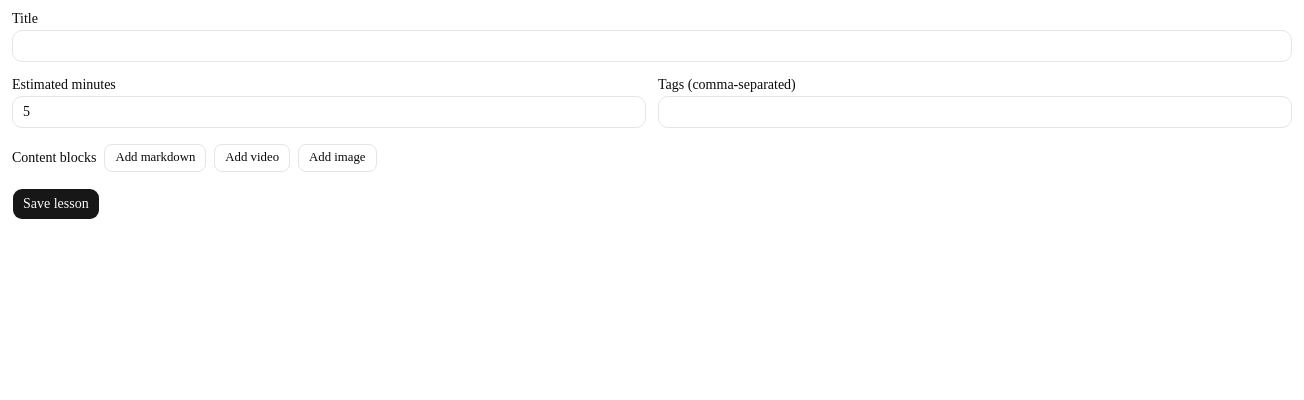
Test: LessonForm › blocks an invalid video URL and renders the issue
Step 1. Type "Broken" into the field labelled "Title" → (652, 46), box [12, 30, 1292, 62]
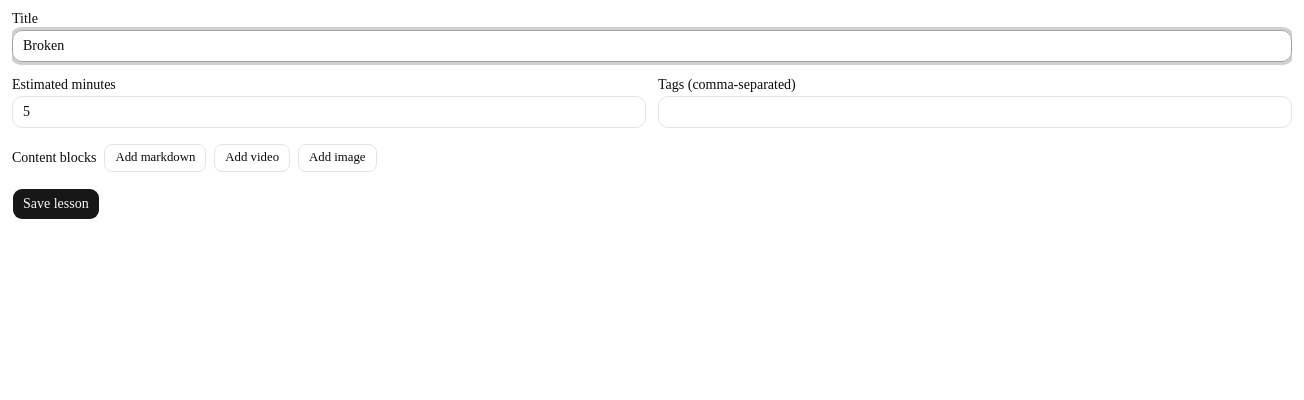
Step 2. Click the button "Add video" → (252, 158), box [214, 144, 290, 172]
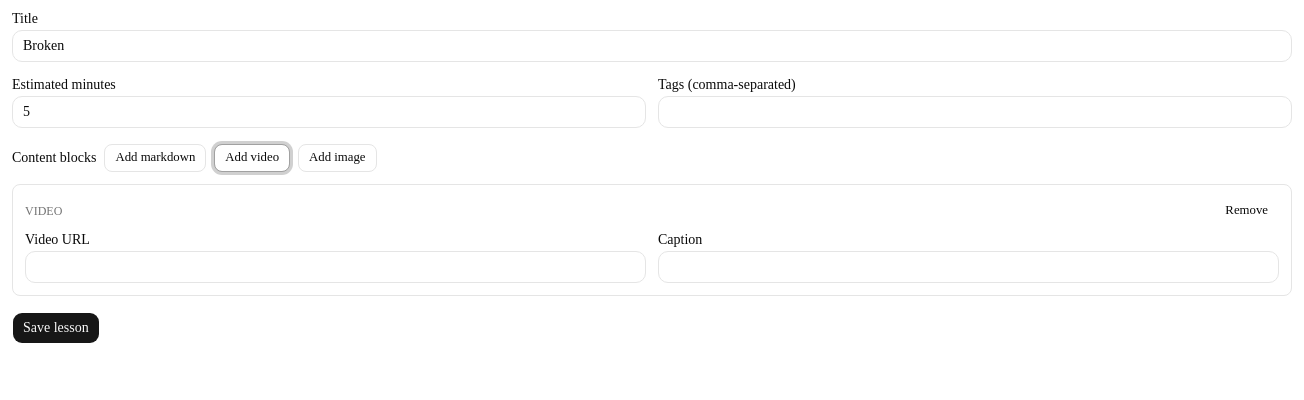
Step 3. Type "not-a-url" into the field labelled "Video URL" → (336, 267), box [25, 251, 646, 283]
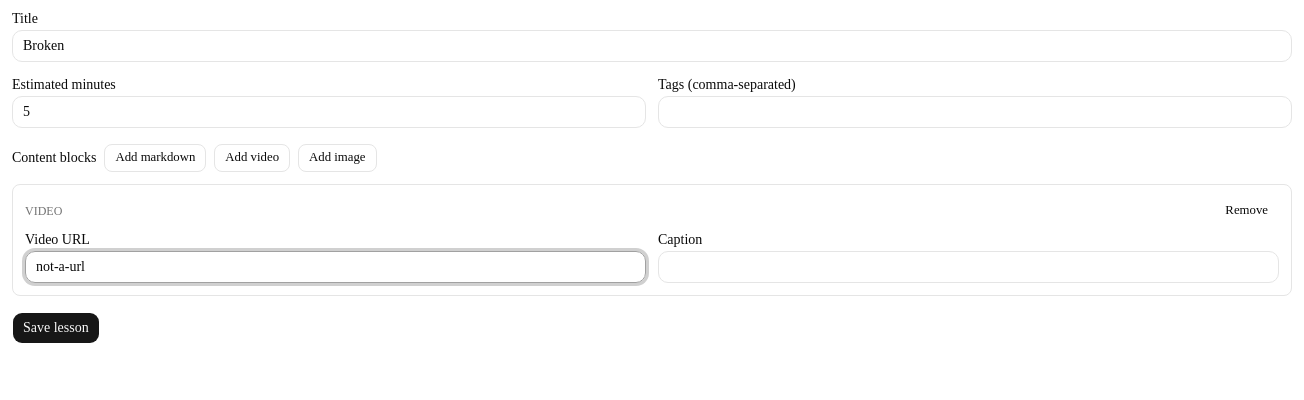
Step 4. Click the button "Save lesson" → (56, 328), box [12, 312, 100, 344]
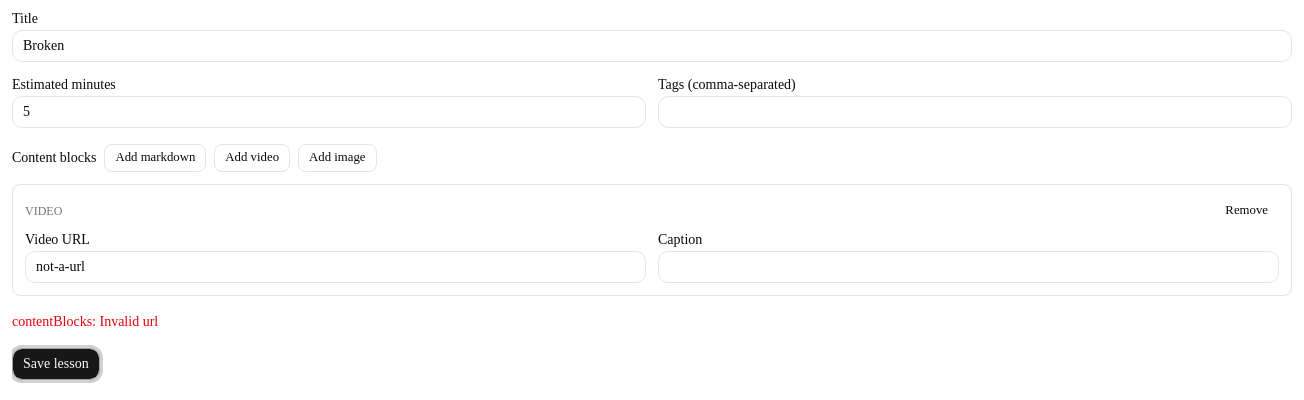
expect the list item "contentBlocks: Invalid url" is shown: met, box [12, 314, 158, 329]
